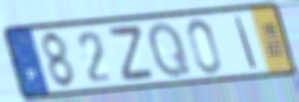0: (186, 17, 223, 77)
2: (78, 30, 114, 85)
8: (40, 30, 78, 90)
I: (233, 15, 259, 71)
Q: (146, 19, 193, 80)
Z: (108, 23, 157, 84)
